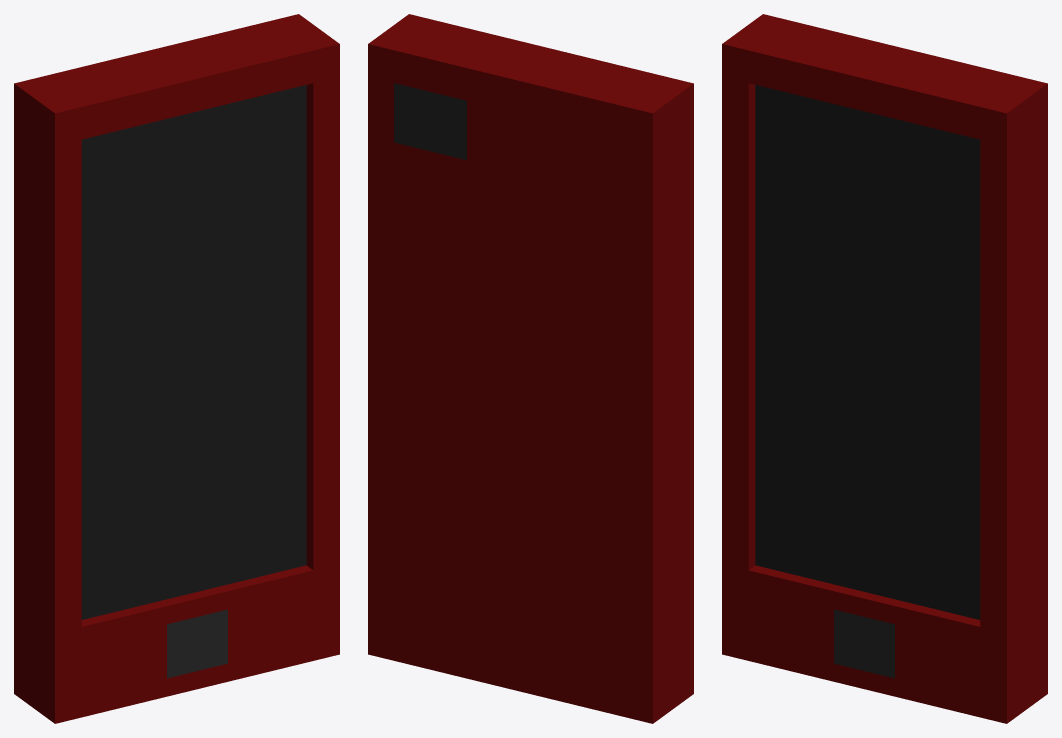
Rendered from SmartPhoneRed.fbx.
3 renders of one model, left to right at view 1: azimuth 30°, elevation 25°; view 2: azimuth 150°, elevation 25°; view 3: azimuth 330°, elevation 25°, orthographic.
Visible parts, largest first — view 1: SmartPhoneRed; view 2: SmartPhoneRed; view 3: SmartPhoneRed.
Boxes of the visible parts, x1=… form: SmartPhoneRed: x1=14, y1=14, x2=339, y2=723; SmartPhoneRed: x1=368, y1=14, x2=693, y2=723; SmartPhoneRed: x1=722, y1=14, x2=1047, y2=723.
Size of the model in its own units: 0.1294 by 0.2651 by 0.0323.
